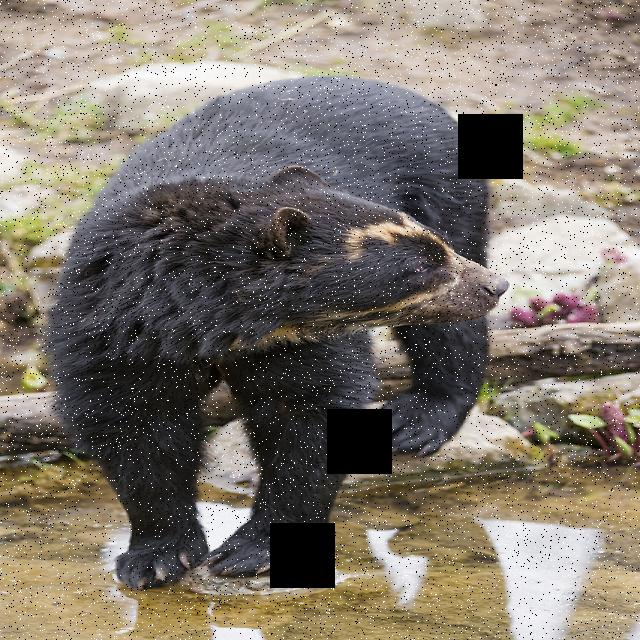Bear: (52, 75, 498, 600)
